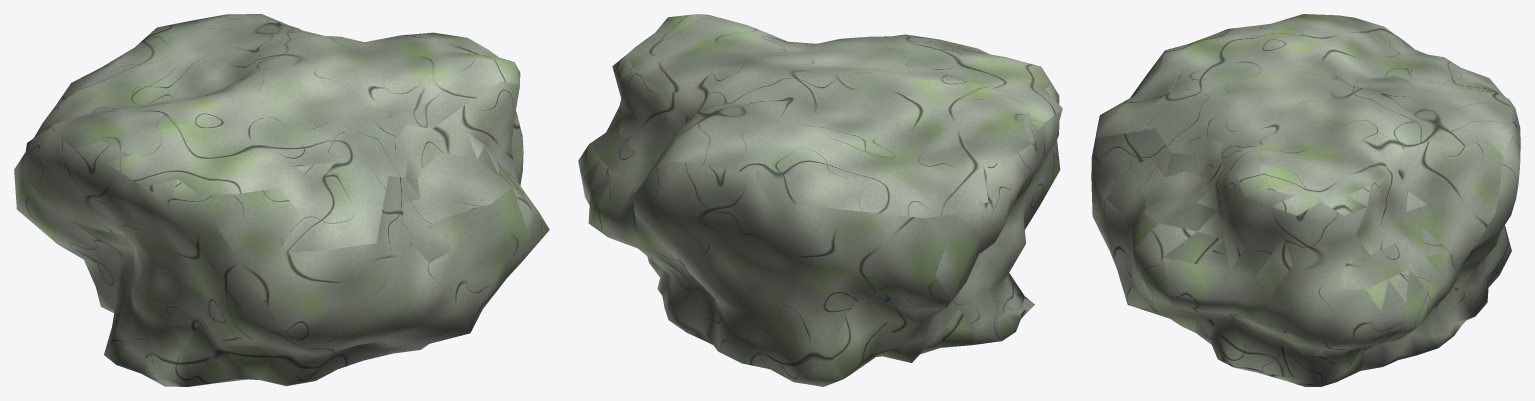
The model's file is outcrop_b.glb.
3 views of the same model, side by side, from view 1: azimuth 30°, elevation 25°; view 2: azimuth 150°, elevation 25°; view 3: azimuth 270°, elevation 25° (orthographic). The views are drawn at different scales.
Visible parts, largest first — view 1: outcrop_b; view 2: outcrop_b; view 3: outcrop_b.
Boxes of the visible parts, bbox=[...] form: outcrop_b: bbox=[14, 14, 549, 386]; outcrop_b: bbox=[578, 14, 1062, 386]; outcrop_b: bbox=[1091, 14, 1520, 386].
Size of the model in its own units: 2.97 by 1.47 by 2.62.
1 material, 1 textured.
